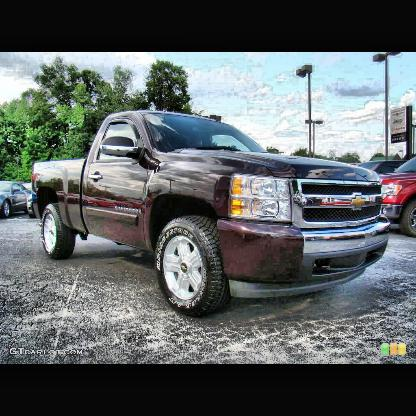Chevrolet Silverado 1500 Regular Cab 2012: (32, 108, 393, 323)
